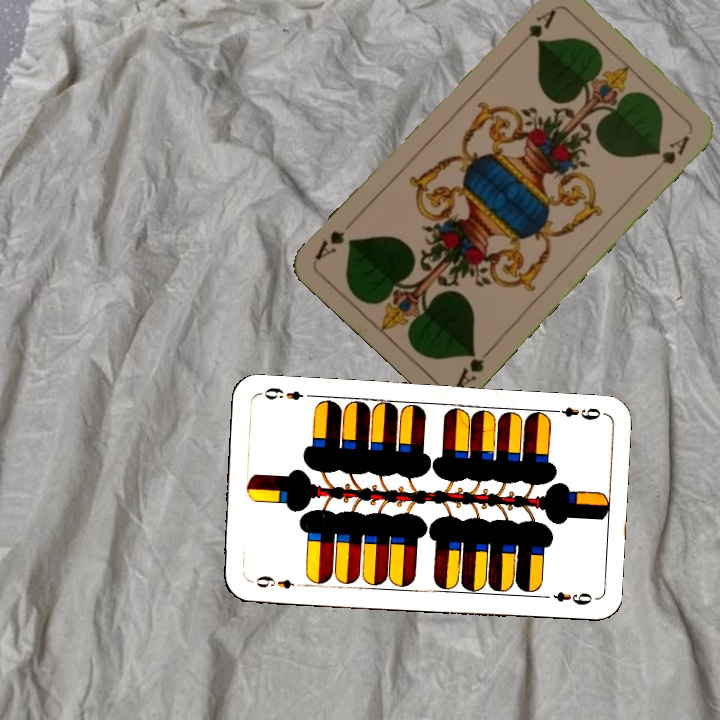E9: (546, 403, 605, 423), (247, 572, 297, 591)
GA: (451, 343, 496, 392), (512, 5, 559, 50)
